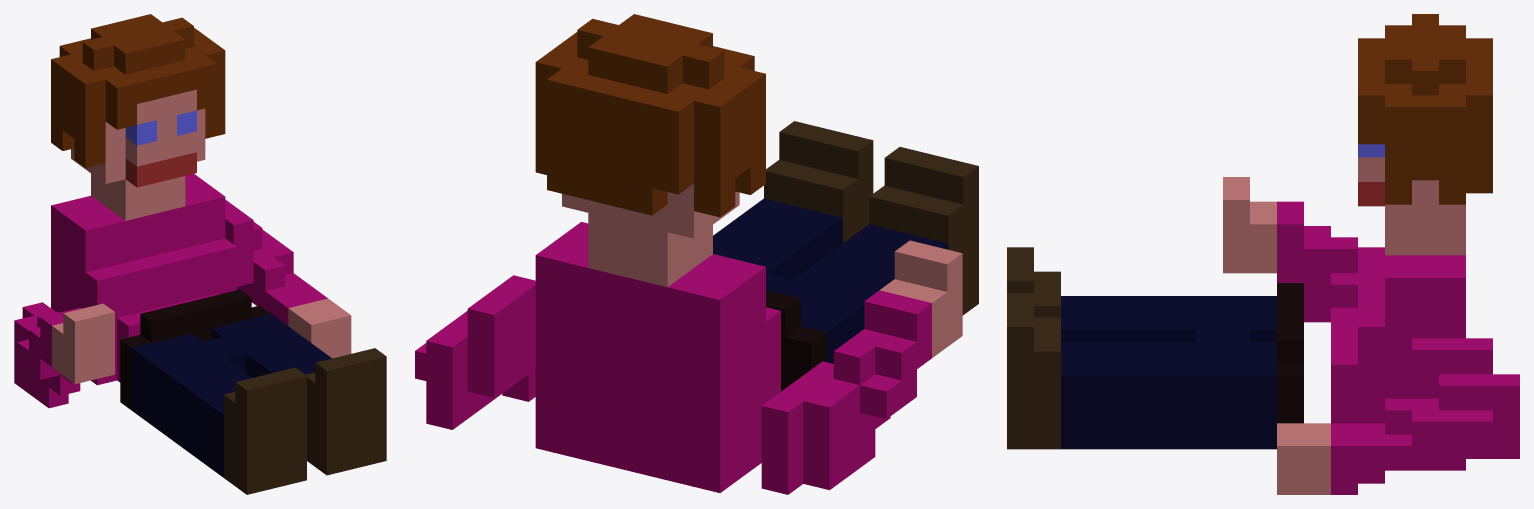
File: classic1 tot 5.obj
3 views of the same model, side by side, from view 1: azimuth 30°, elevation 25°; view 2: azimuth 150°, elevation 25°; view 3: azimuth 270°, elevation 25° (orthographic). The views are drawn at different scales.
Size of the model in its own units: 1.5 by 1.5 by 1.9.
Materials: 1 (1 with a texture image).
